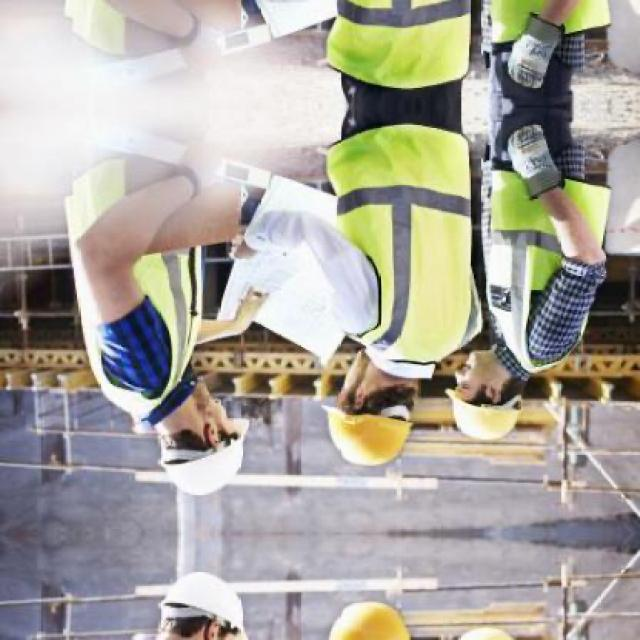con casco: (277, 328, 435, 480), (143, 354, 278, 497), (422, 345, 539, 468)
